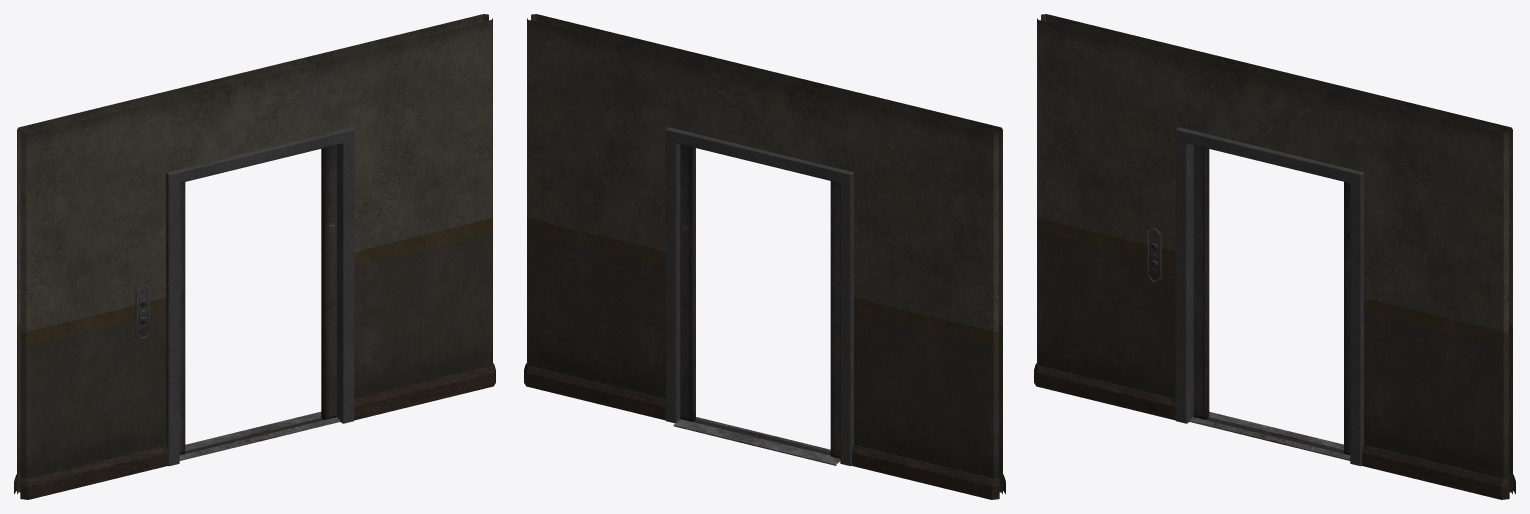
The model's file is elevator_doorway_1.obj.
The picture shows the model from 3 angles, left to right: view 1: azimuth 30°, elevation 25°; view 2: azimuth 150°, elevation 25°; view 3: azimuth 330°, elevation 25°; orthographic projection.
Visible parts, largest first — view 1: elevator_doorway_1, elevator_door_1_a, elevator_door_1_b, elevator_call_button_1; view 2: elevator_doorway_1, elevator_door_1_a, elevator_door_1_b; view 3: elevator_doorway_1, elevator_door_1_b, elevator_door_1_a, elevator_call_button_1.
Part boxes in pixels (x1=…): elevator_doorway_1: x1=14, y1=14, x2=495, y2=499; elevator_door_1_a: x1=321, y1=145, x2=336, y2=419; elevator_door_1_b: x1=179, y1=182, x2=185, y2=455; elevator_call_button_1: x1=135, y1=285, x2=149, y2=339; elevator_doorway_1: x1=524, y1=14, x2=1005, y2=499; elevator_door_1_a: x1=680, y1=144, x2=695, y2=421; elevator_door_1_b: x1=830, y1=181, x2=910, y2=458; elevator_doorway_1: x1=1034, y1=14, x2=1515, y2=499; elevator_door_1_b: x1=1193, y1=145, x2=1209, y2=419; elevator_door_1_a: x1=1344, y1=182, x2=1350, y2=455; elevator_call_button_1: x1=1147, y1=228, x2=1161, y2=282.
Size of the model in its own units: 4.09 by 3 by 0.25.
